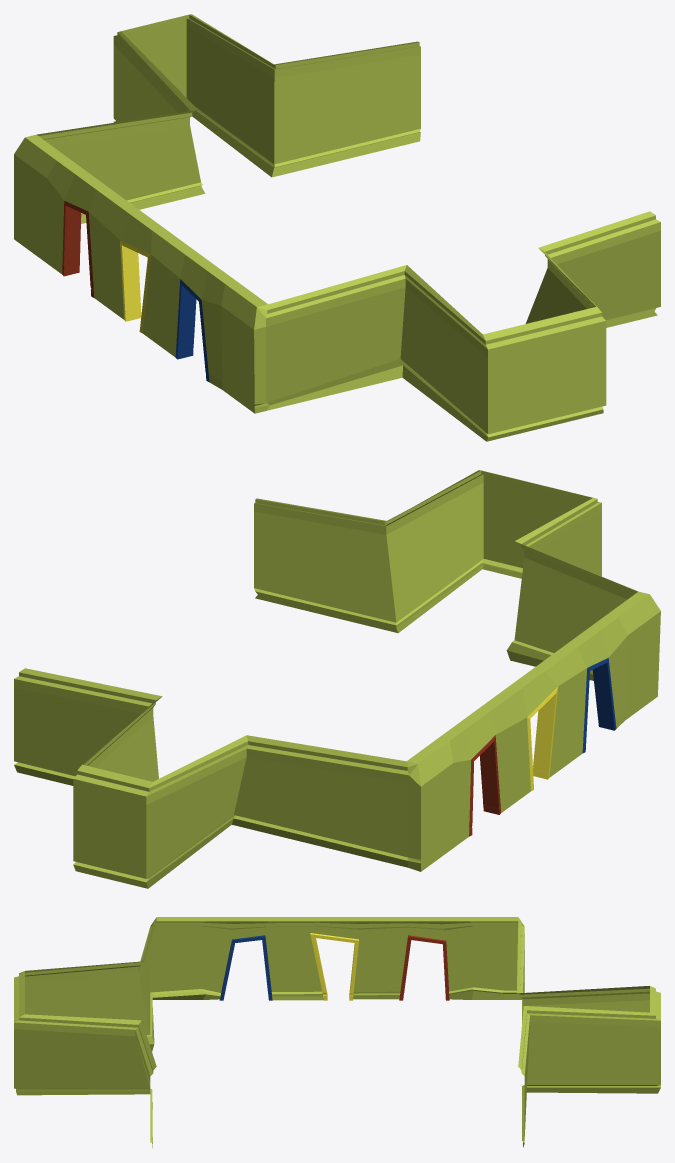
Rendered from Mur_20M.fbx.
3 views of the same model, one above another, from view 1: azimuth 30°, elevation 25°; view 2: azimuth 150°, elevation 25°; view 3: azimuth 270°, elevation 25° (orthographic). The views are drawn at different scales.
Parts seen in each view (by area): view 1: Mur_salle20M, Mur_Porte20M; view 2: Mur_salle20M, Mur_Porte20M; view 3: Mur_salle20M, Mur_Porte20M.
Part boxes in pixels (x1,y1,x2,y2): Mur_salle20M: [37, 14, 660, 441]; Mur_Porte20M: [14, 134, 269, 413]; Mur_salle20M: [14, 470, 637, 888]; Mur_Porte20M: [406, 591, 660, 871]; Mur_salle20M: [14, 921, 660, 1147]; Mur_Porte20M: [150, 917, 524, 1000].
Size of the model in its own units: 2064 by 562 by 3639.
